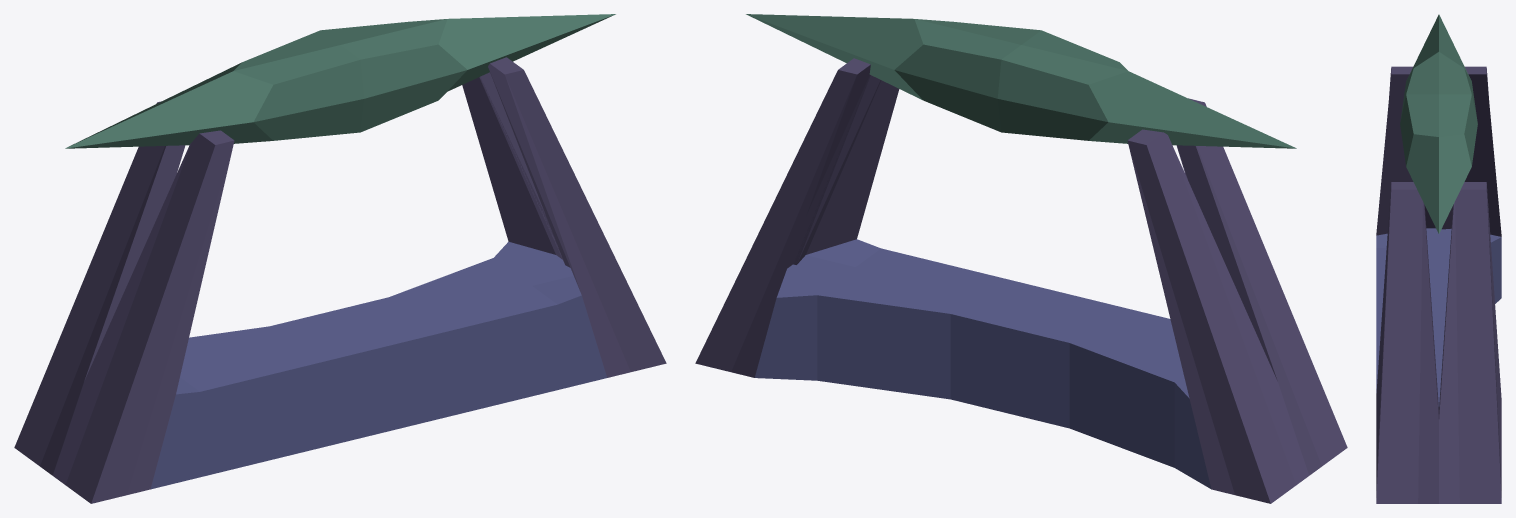
The model's file is shop2.glb.
3 renders of one model, left to right at view 1: azimuth 30°, elevation 25°; view 2: azimuth 150°, elevation 25°; view 3: azimuth 270°, elevation 25°, orthographic. The views are drawn at different scales.
Parts seen in each view (by area): view 1: Cube; view 2: Cube; view 3: Cube.
Boxes of the visible parts, left/top/right/bottom form: Cube: left=14, top=14, right=666, bottom=503; Cube: left=695, top=14, right=1347, bottom=503; Cube: left=1376, top=14, right=1501, bottom=503.
Size of the model in its own units: 8.65 by 5.18 by 2.
Materials: 1 (1 with a texture image).
